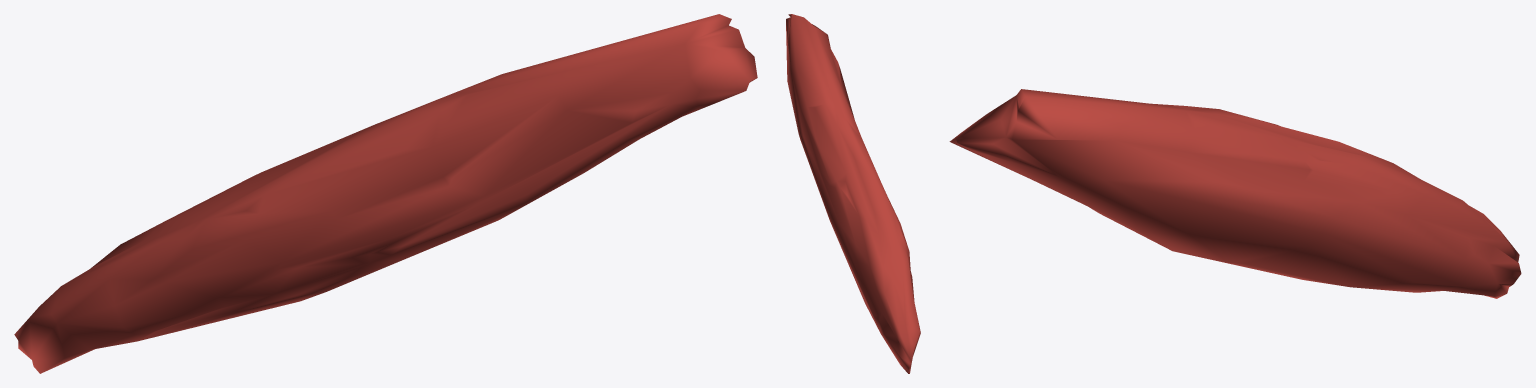
The model's file is musculos-obliquus-inferior-capitis-muscle-l.glb.
3 renders of one model, left to right at view 1: azimuth 30°, elevation 25°; view 2: azimuth 150°, elevation 25°; view 3: azimuth 270°, elevation 25°, orthographic. The views are drawn at different scales.
Parts seen in each view (by area): view 1: Obliquus inferior capitis muscle.l; view 2: Obliquus inferior capitis muscle.l; view 3: Obliquus inferior capitis muscle.l.
Part boxes in pixels (x1,y1,x2,y2): Obliquus inferior capitis muscle.l: [14, 14, 757, 373]; Obliquus inferior capitis muscle.l: [786, 14, 920, 373]; Obliquus inferior capitis muscle.l: [949, 89, 1521, 298].
Size of the model in its own units: 0.0387 by 0.0315 by 0.0377.
